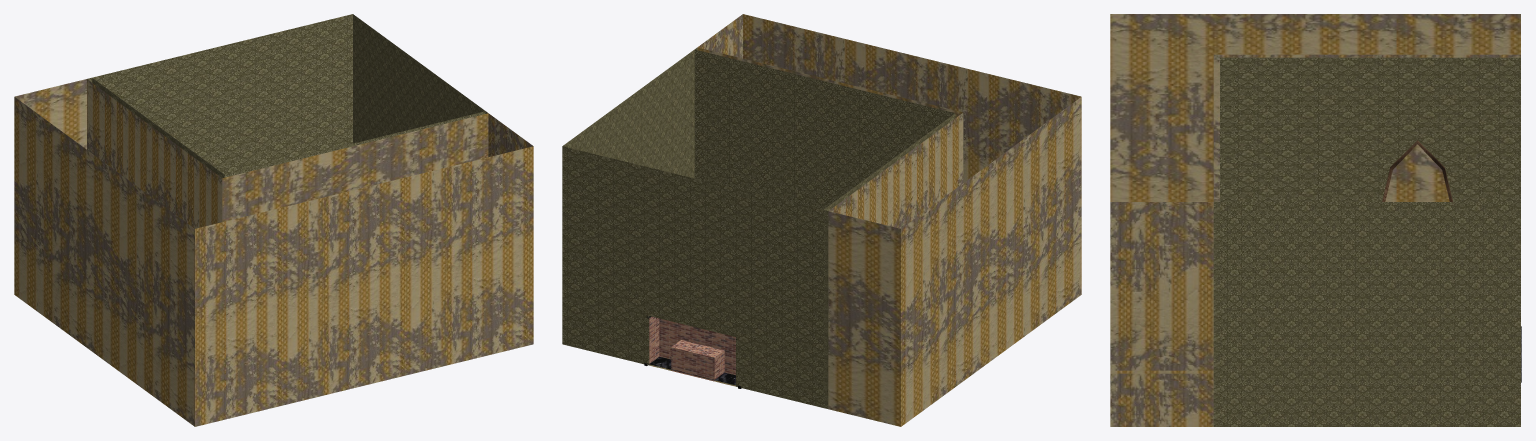
Rendered from RERoom.fbx.
3 views of the same model, side by side, from view 1: azimuth 30°, elevation 25°; view 2: azimuth 150°, elevation 25°; view 3: azimuth 270°, elevation 25° (orthographic). The views are drawn at different scales.
Visible parts, largest first — view 1: Plane; view 2: Plane; view 3: Plane.
Part boxes in pixels (bbox=[...]): Plane: bbox=[14, 14, 533, 426]; Plane: bbox=[562, 14, 1081, 426]; Plane: bbox=[1110, 14, 1521, 426].
Size of the model in its own units: 3936 by 2218 by 3641.
Materials: 7 (7 with a texture image).
